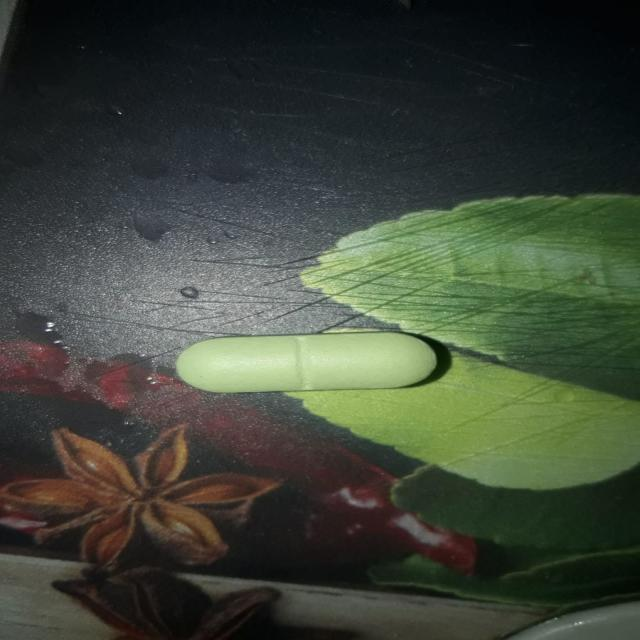pills: (140, 316, 478, 404)
